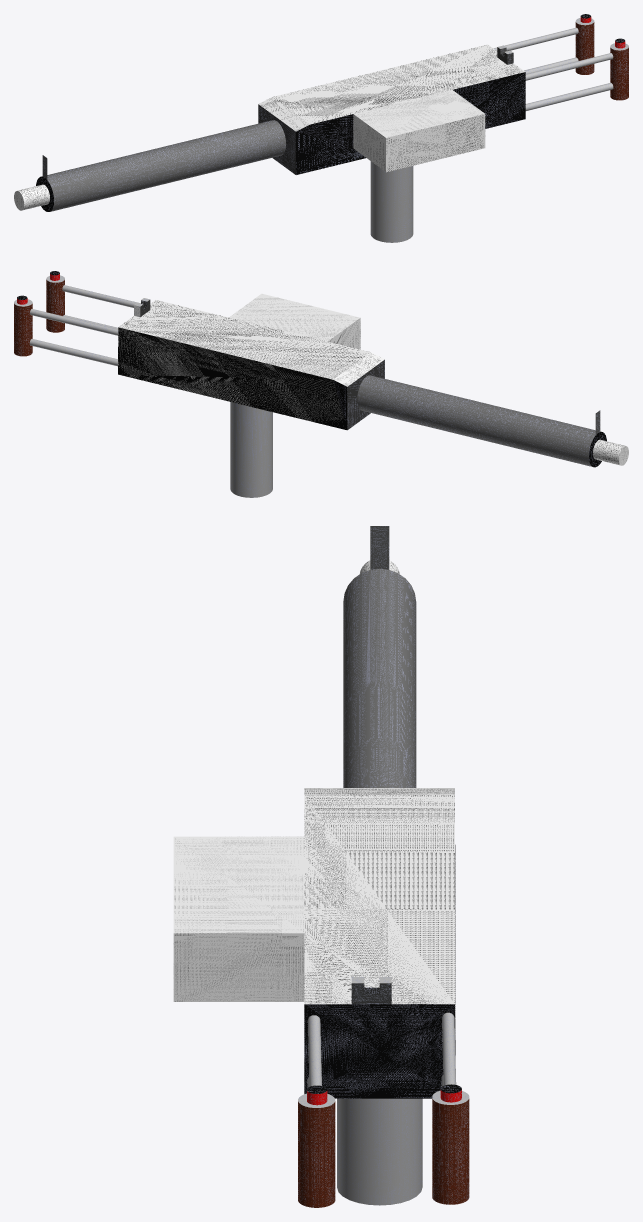
The picture shows the model from 3 angles, top to bottom: view 1: azimuth 30°, elevation 25°; view 2: azimuth 150°, elevation 25°; view 3: azimuth 270°, elevation 25°; orthographic projection. The views are drawn at different scales.
Visible parts, largest first — view 1: SketchUp (×15); view 2: SketchUp (×14); view 3: SketchUp (×11).
Boxes of the visible parts, box(x1,y1,x2,y2) form: SketchUp (×15): box(17, 22, 628, 242); SketchUp (×14): box(14, 279, 625, 497); SketchUp (×11): box(173, 568, 469, 1207).
Bounding box in the file's own units: 3641 × 788 × 950.
12 materials, 1 textured.
